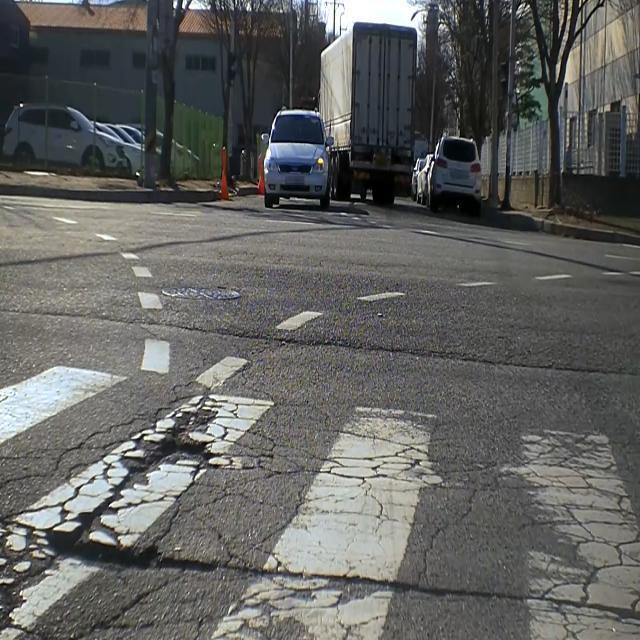pothole: (41, 508, 218, 572), (129, 407, 224, 485)
